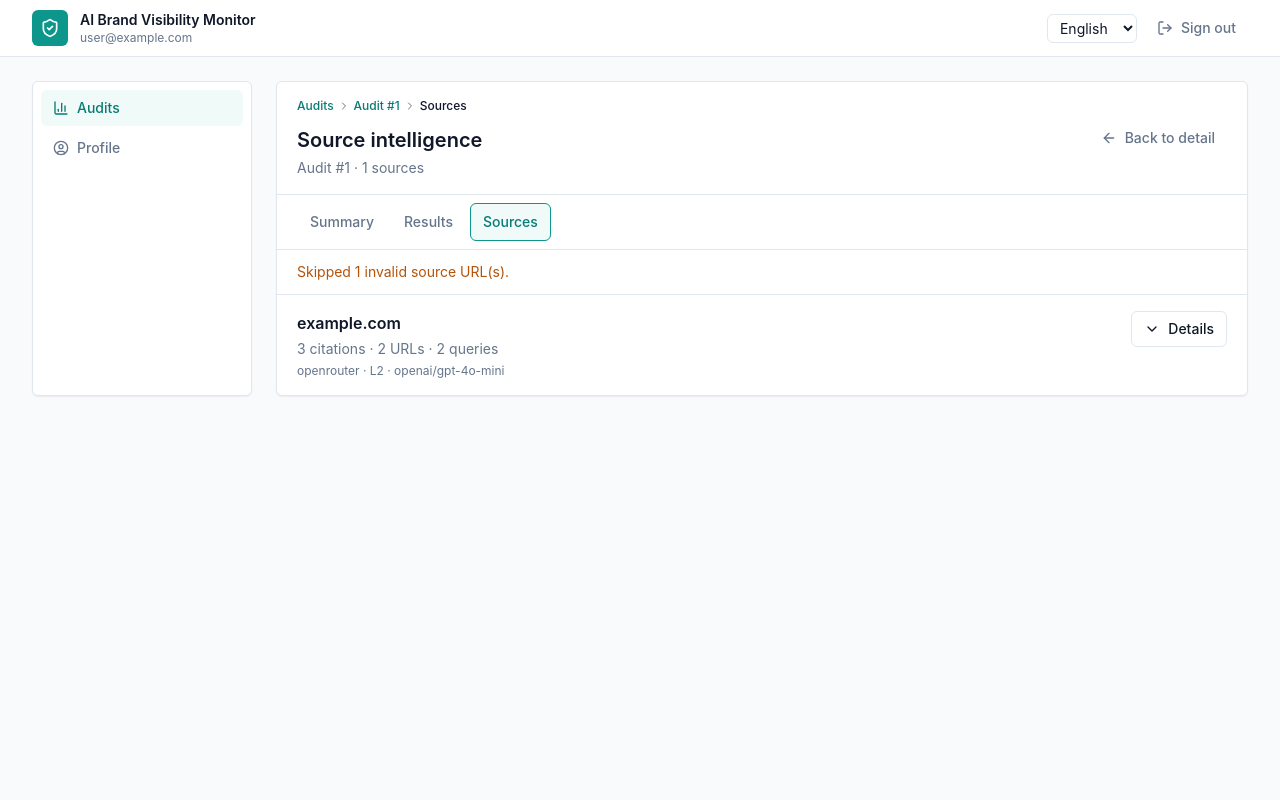
Test: audit sources page › expands and collapses URL evidence
Expected: the heading "example.com" is shown, [297,313,401,333]
Expected: the text "Example docs" is not shown
What coordinates should you click on to do the following:
click the button "Details"
I would click on:
 (1179, 329)
Its box is [1131,311,1227,347].
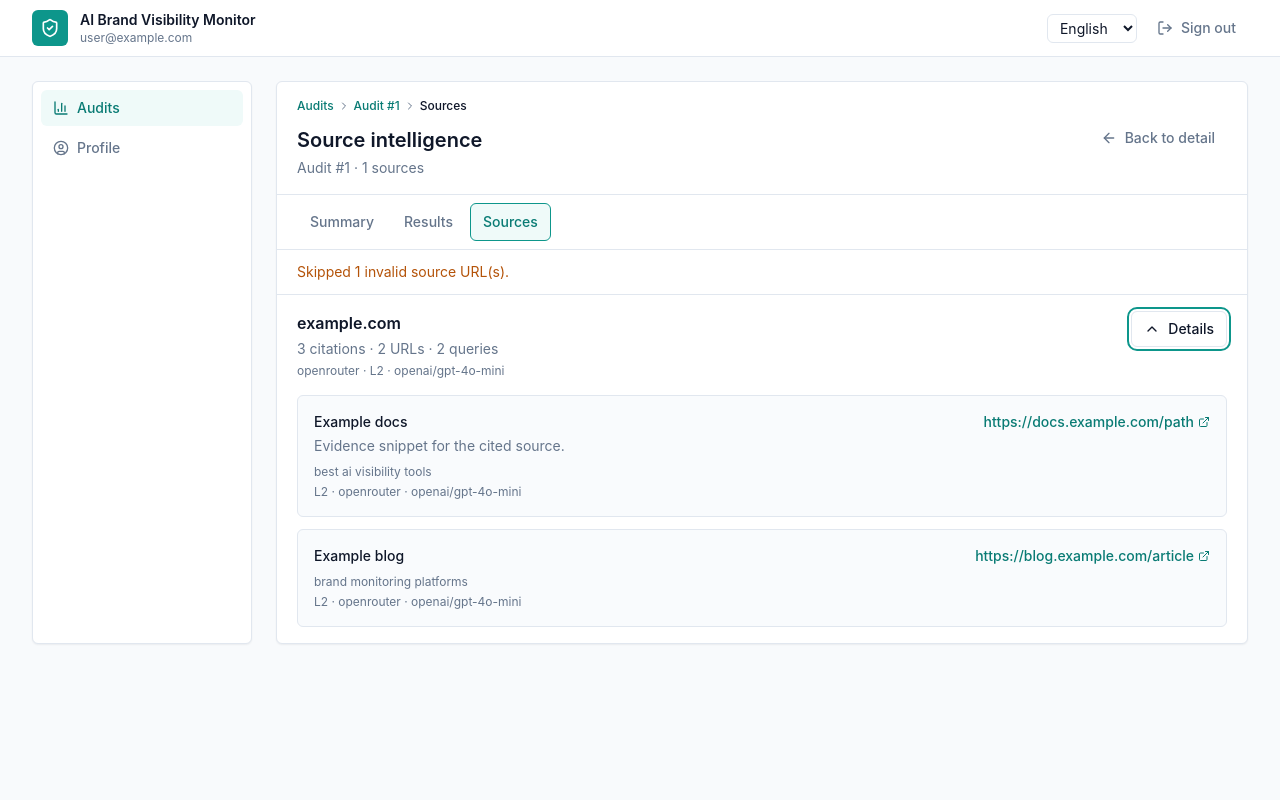
Now the button "Details" is expanded
Now the text "Example docs" is shown, box [314,413,408,430]
Now the text "Evidence snippet for the cited source." is shown, box [314,436,565,456]
What coordinates should you click on to do the following:
click the button "Details"
I would click on:
 (1179, 329)
Its box is [1131,311,1227,347].
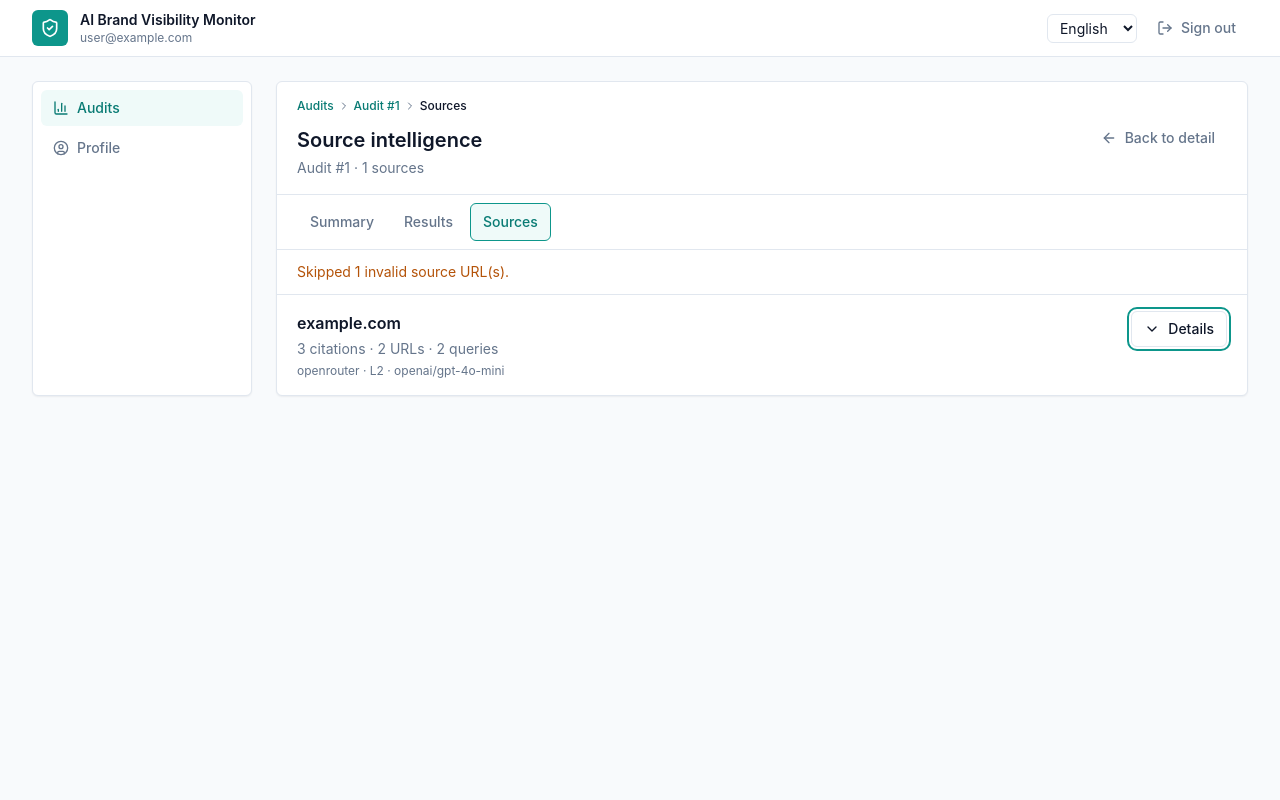
Now the button "Details" is collapsed, box [1131,311,1227,347]
Now the text "Example docs" is gone
